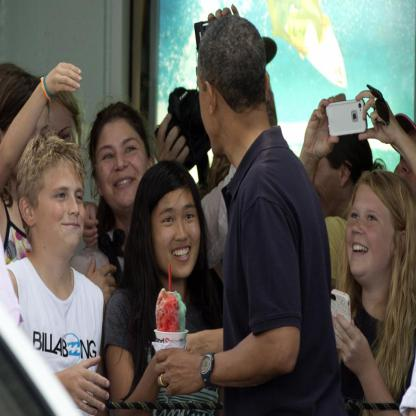face: (348, 183, 397, 278), (39, 157, 87, 248), (97, 123, 148, 208), (156, 188, 201, 278), (41, 100, 78, 180)
